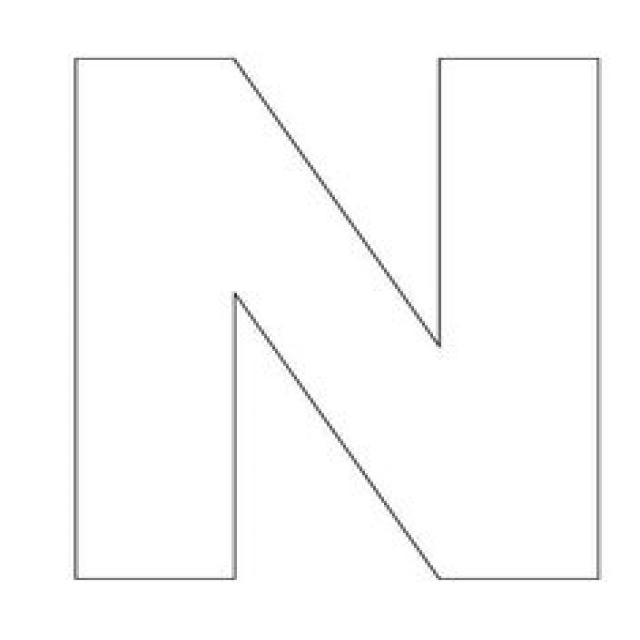N: (51, 12, 625, 600)
